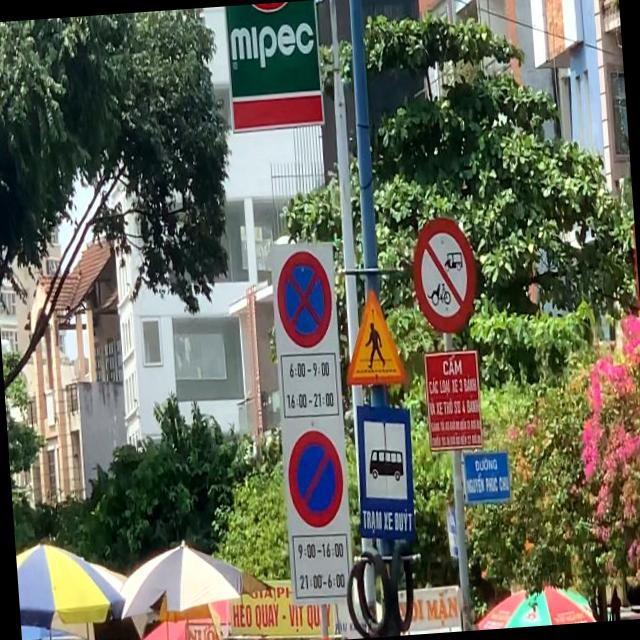P-130: (275, 248, 334, 349)
P-131a: (284, 428, 345, 528)
W-224: (336, 288, 406, 388)
